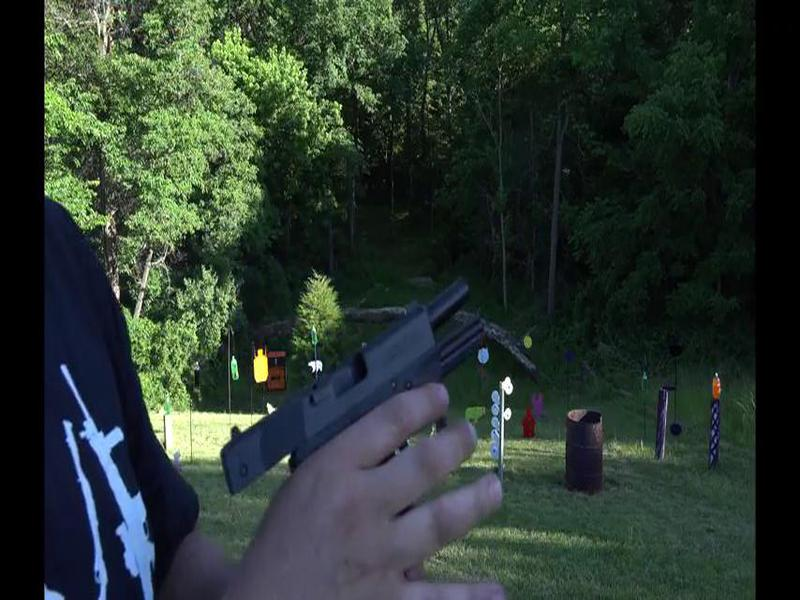Pistola: (224, 264, 499, 566)
